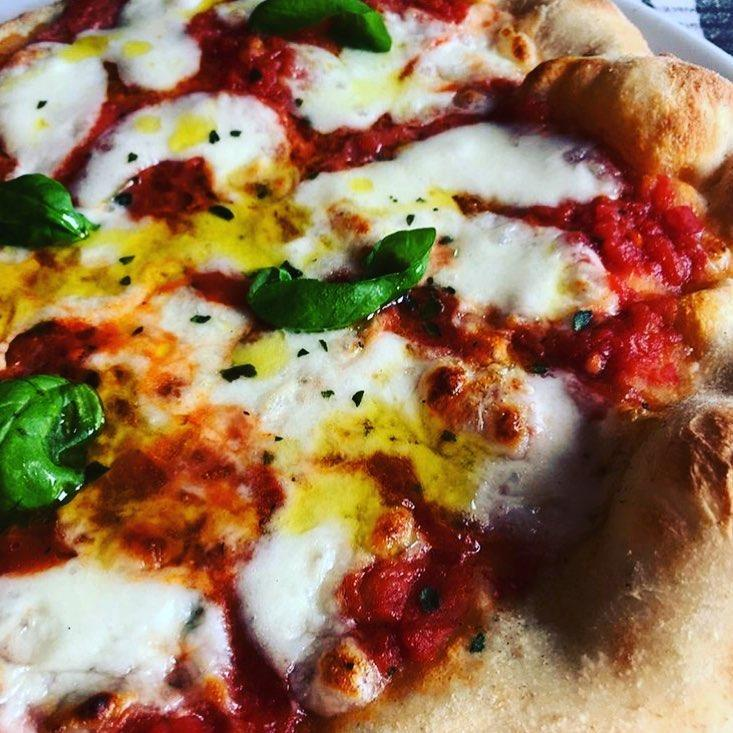Basil: (242, 222, 442, 338), (0, 368, 117, 520), (232, 0, 400, 57), (0, 169, 103, 252)
Cheese: (301, 137, 588, 212), (0, 572, 171, 691), (246, 473, 349, 648), (203, 342, 401, 432), (0, 34, 109, 155), (479, 392, 577, 515), (448, 222, 577, 313), (118, 99, 269, 174), (303, 52, 448, 116), (110, 0, 195, 78)
Pizza: (0, 0, 733, 733)
